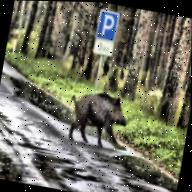boar: (58, 60, 150, 163)
